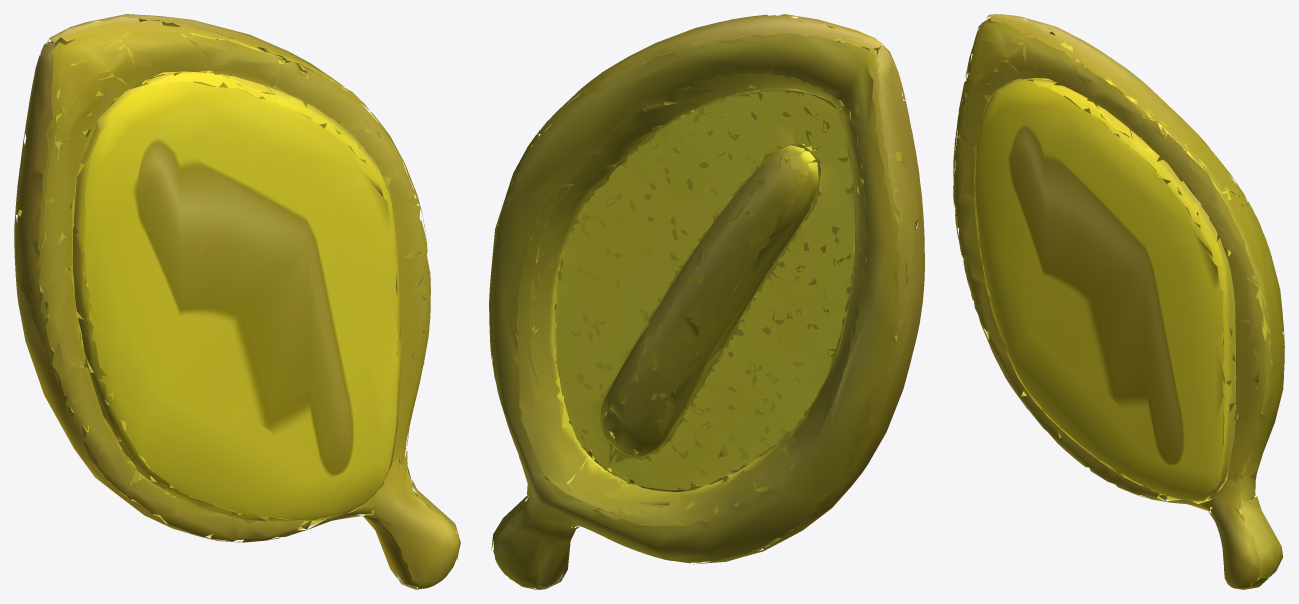
The model's file is goldenleaf.glb.
The picture shows the model from 3 angles, left to right: view 1: azimuth 30°, elevation 25°; view 2: azimuth 150°, elevation 25°; view 3: azimuth 330°, elevation 25°; orthographic projection. The views are drawn at different scales.
Size of the model in its own units: 0.0803 by 0.1141 by 0.0169.
Materials: 1 (1 with a texture image).
